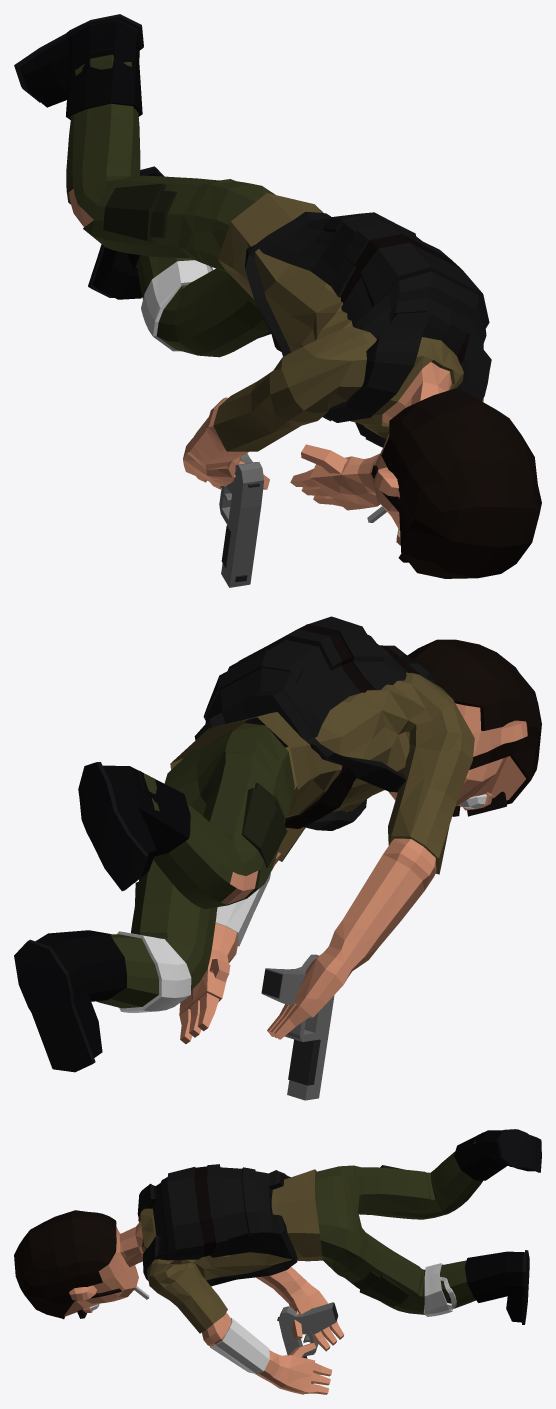
Rendered from frame_0032.obj.
3 views of the same model, one above another, from view 1: azimuth 30°, elevation 25°; view 2: azimuth 150°, elevation 25°; view 3: azimuth 270°, elevation 25° (orthographic). The views are drawn at different scales.
Visible parts, largest first — view 1: Body, Gun; view 2: Body, Gun; view 3: Body, Gun.
Boxes of the visible parts, x1=… form: Body: x1=14, y1=14, x2=541, y2=578; Gun: x1=219, y1=453, x2=264, y2=587; Body: x1=14, y1=616, x2=541, y2=1072; Gun: x1=261, y1=954, x2=334, y2=1100; Body: x1=14, y1=1129, x2=541, y2=1394; Gun: x1=277, y1=1302, x2=338, y2=1383.
Size of the model in its own units: 1.27 by 2.3 by 4.02.
